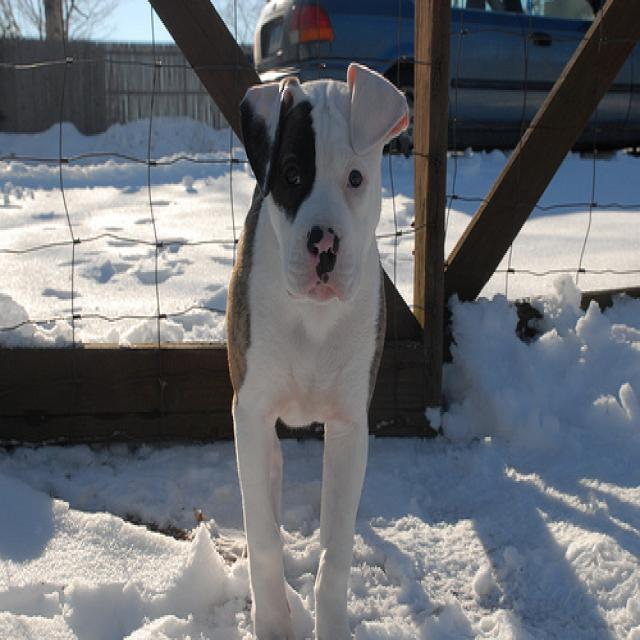dog-american_bulldog: (219, 56, 411, 636)
